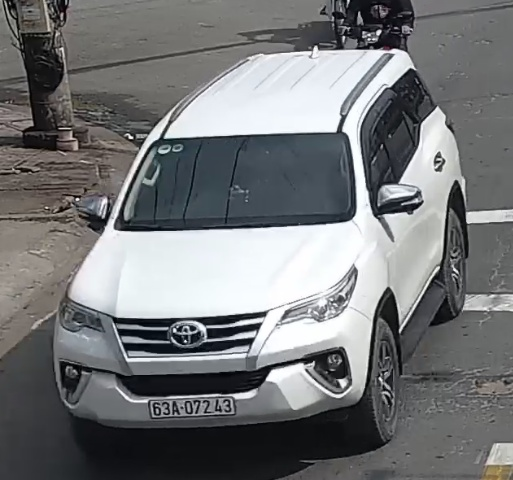vehicle plate: (144, 393, 245, 417)
